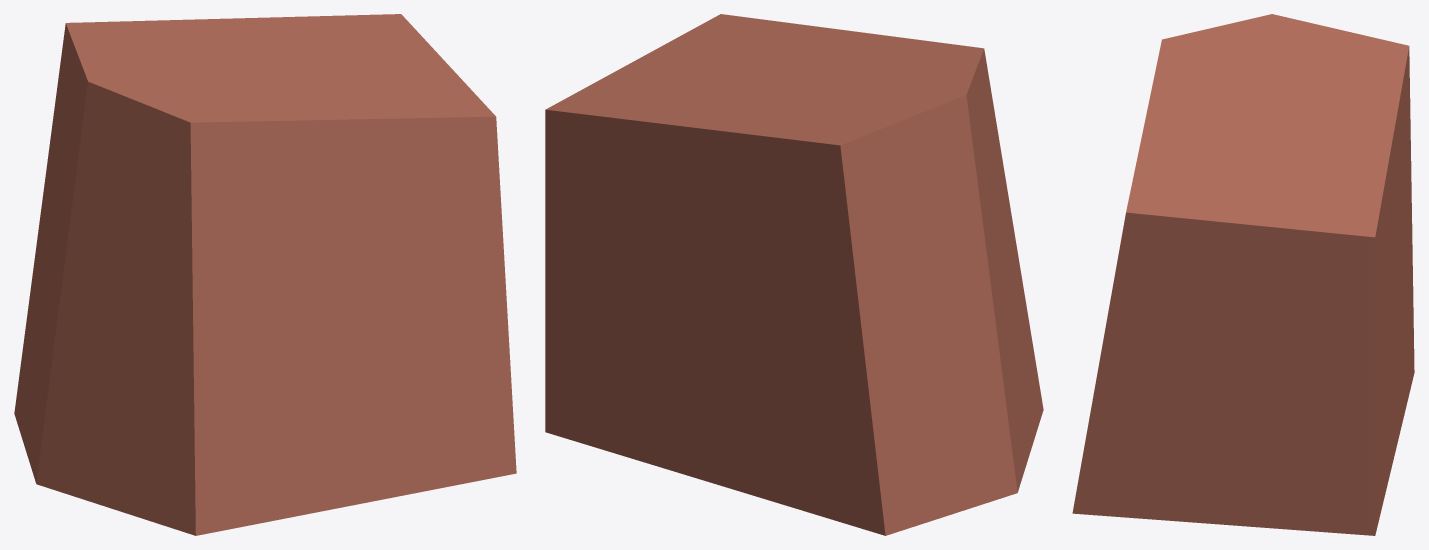
Rendered from rock_013.fbx.
3 renders of one model, left to right at view 1: azimuth 30°, elevation 25°; view 2: azimuth 150°, elevation 25°; view 3: azimuth 270°, elevation 25°, orthographic. The views are drawn at different scales.
Visible parts, largest first — view 1: rock_013; view 2: rock_013; view 3: rock_013.
Part boxes in pixels (x1=…): rock_013: x1=14, y1=14, x2=516, y2=535; rock_013: x1=545, y1=14, x2=1043, y2=535; rock_013: x1=1072, y1=14, x2=1414, y2=535.
Size of the model in its own units: 155 by 119 by 137.
